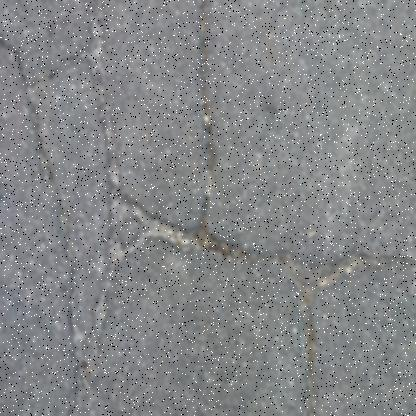Cracks: (0, 0, 149, 416), (150, 210, 415, 290), (283, 243, 321, 416), (194, 0, 218, 253)
